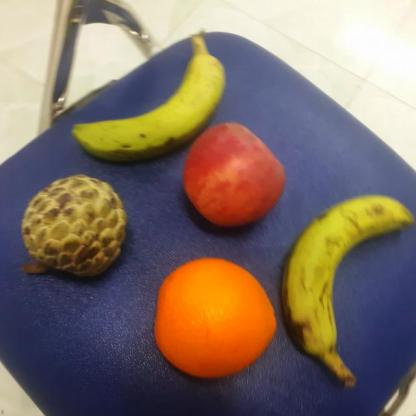annona: (19, 173, 131, 279)
apple: (181, 120, 288, 226)
banana: (280, 192, 416, 359), (69, 49, 228, 164)
orange: (152, 253, 280, 380)
